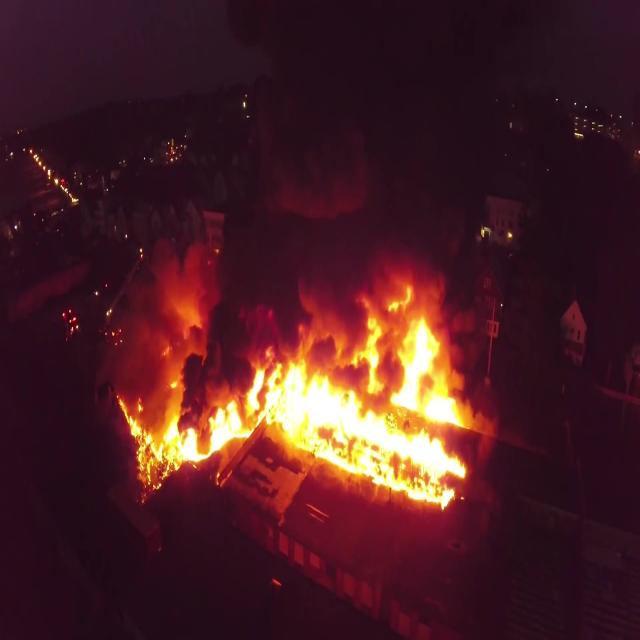Fire: (113, 280, 466, 516)
Smoke: (107, 0, 500, 454)
